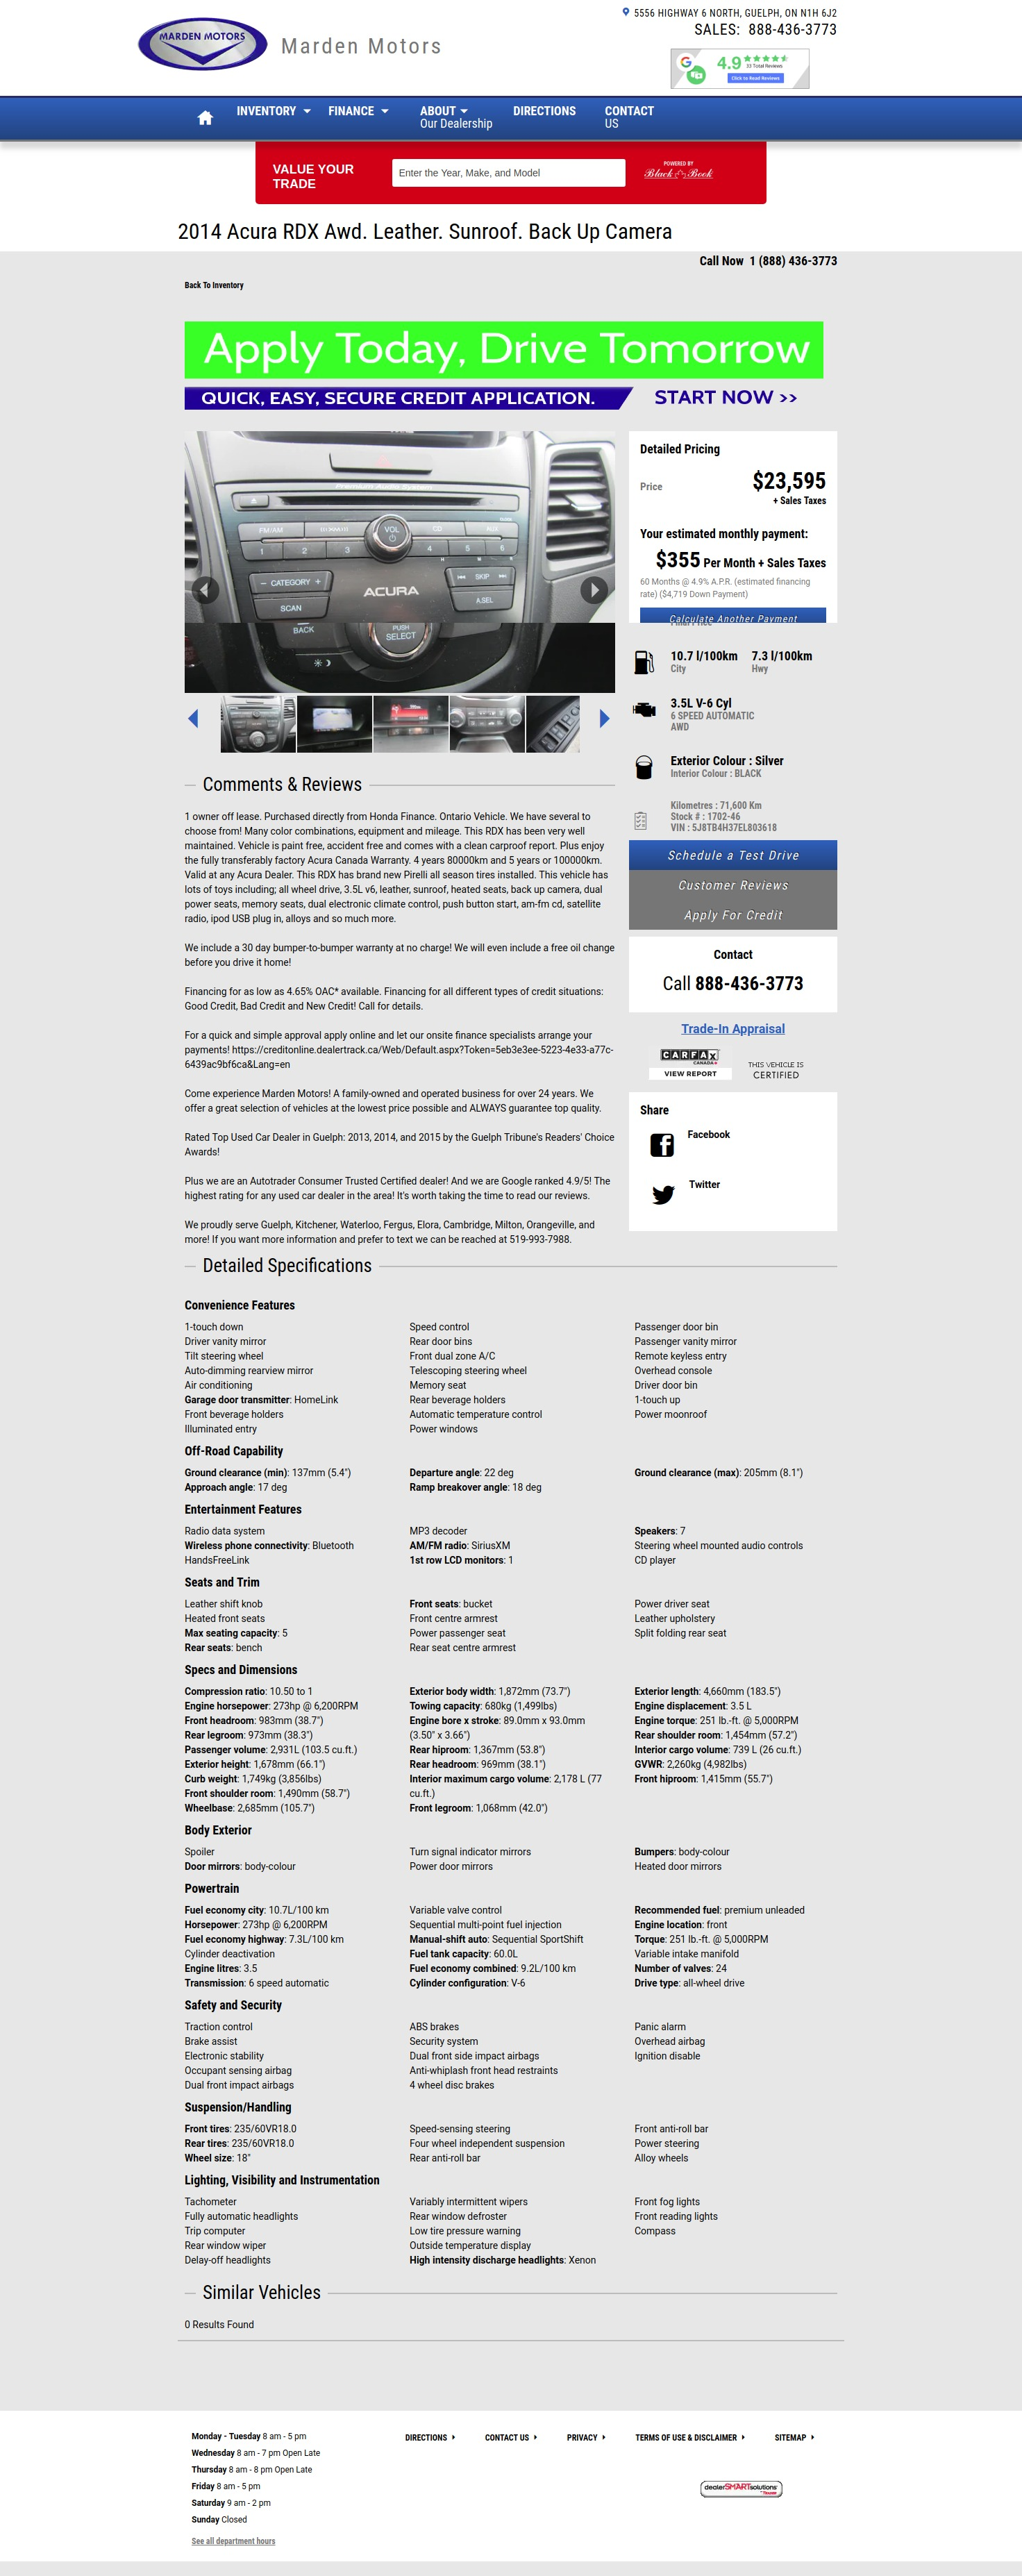car: (598, 708, 611, 729)
